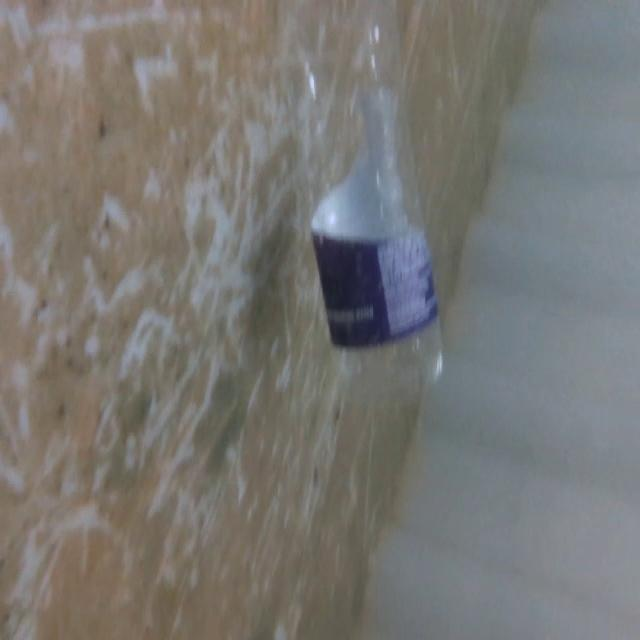plastic bottle: (266, 0, 446, 424)
